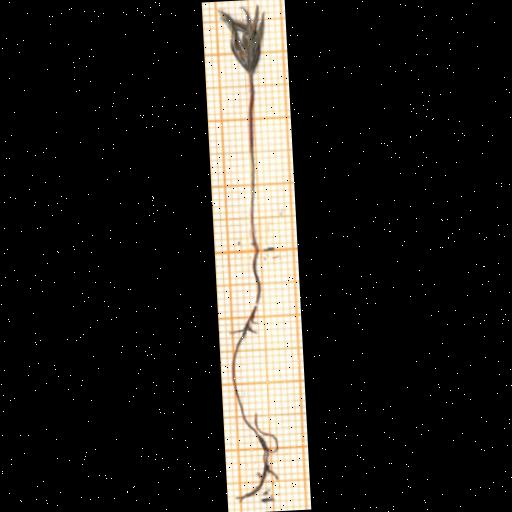flowerPinus: (218, 6, 266, 75)
rootPinus: (231, 251, 279, 501)
stemPinus: (248, 73, 256, 247)
